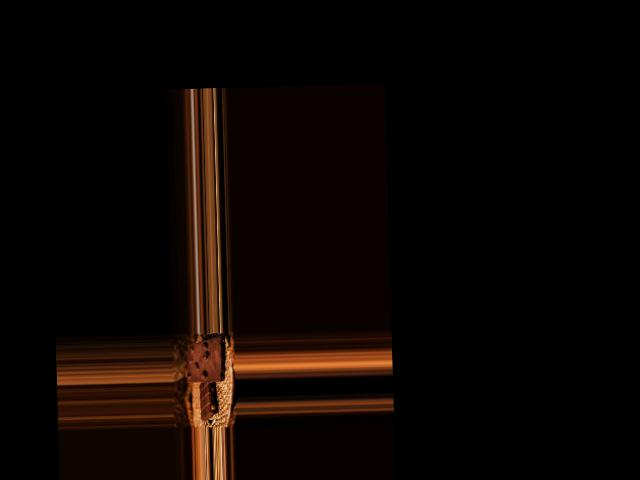chocolate: (185, 335, 225, 385)
